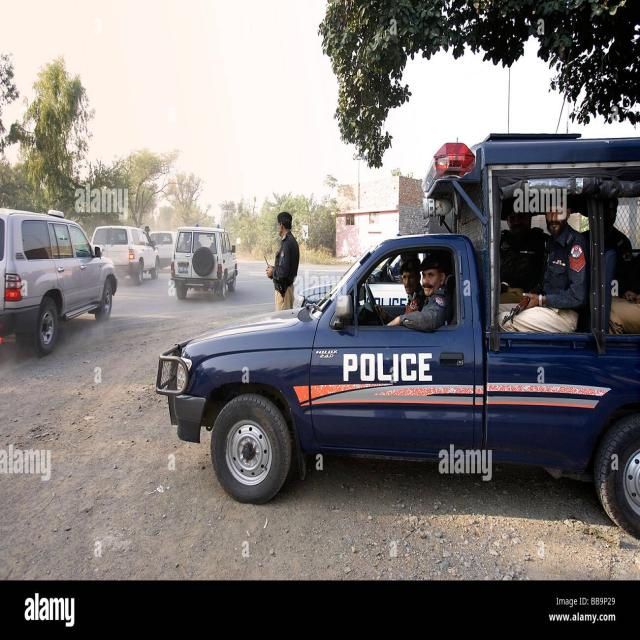police: (194, 150, 640, 500)
